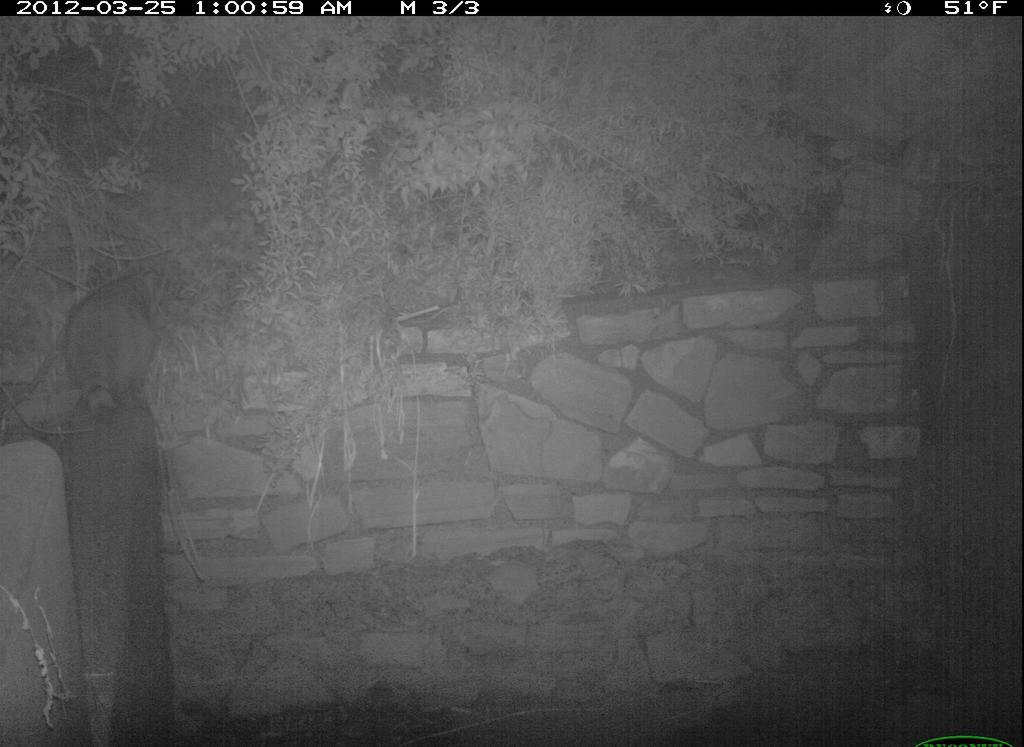raccoon: (65, 262, 168, 425)
